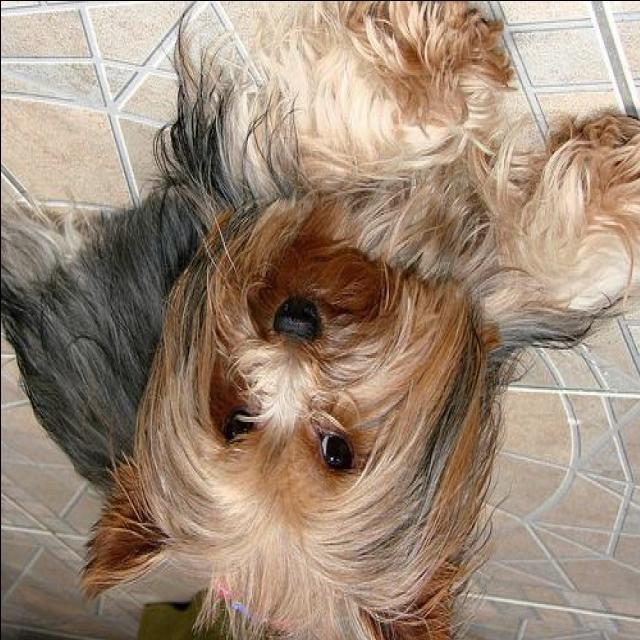dandie_dinmont: (1, 2, 640, 636)
